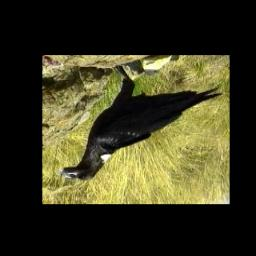Crow: (59, 63, 224, 182)
